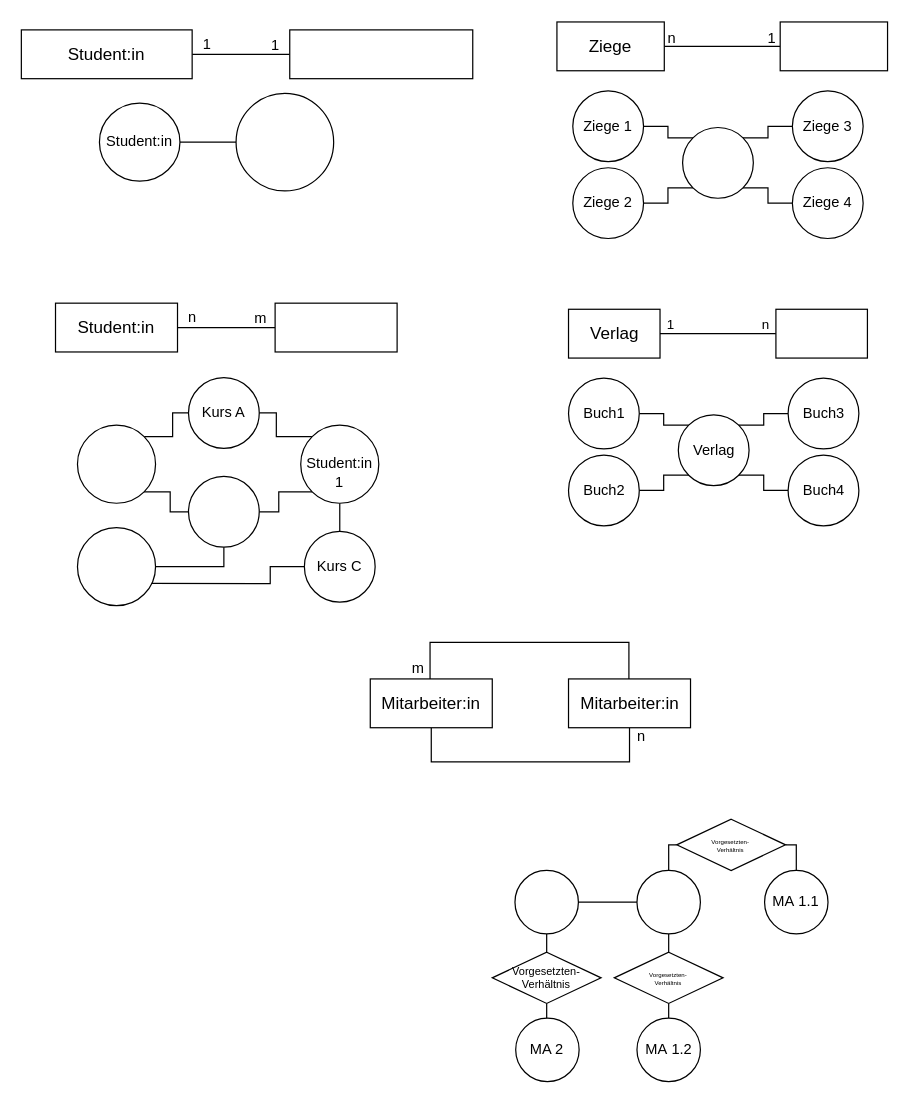
Some shapes in this 909 by 1103 pixel diagram are drawn without their labels. Here are the shapes that lost their labels. From the top down, the box of each, then its label:
(289, 29, 473, 79): Studierendenausweis
(779, 21, 888, 71): Streichelzoo
(235, 92, 334, 191): Studierenden-ausweis
(681, 126, 753, 198): Streichel-zoo
(274, 302, 397, 352): Kurs
(775, 308, 867, 358): Buch
(76, 424, 156, 503): Student:in 2
(187, 475, 259, 547): Kurs B
(76, 526, 156, 606): Student:in 3
(514, 869, 578, 934): MA 0
(636, 869, 700, 934): MA 1
